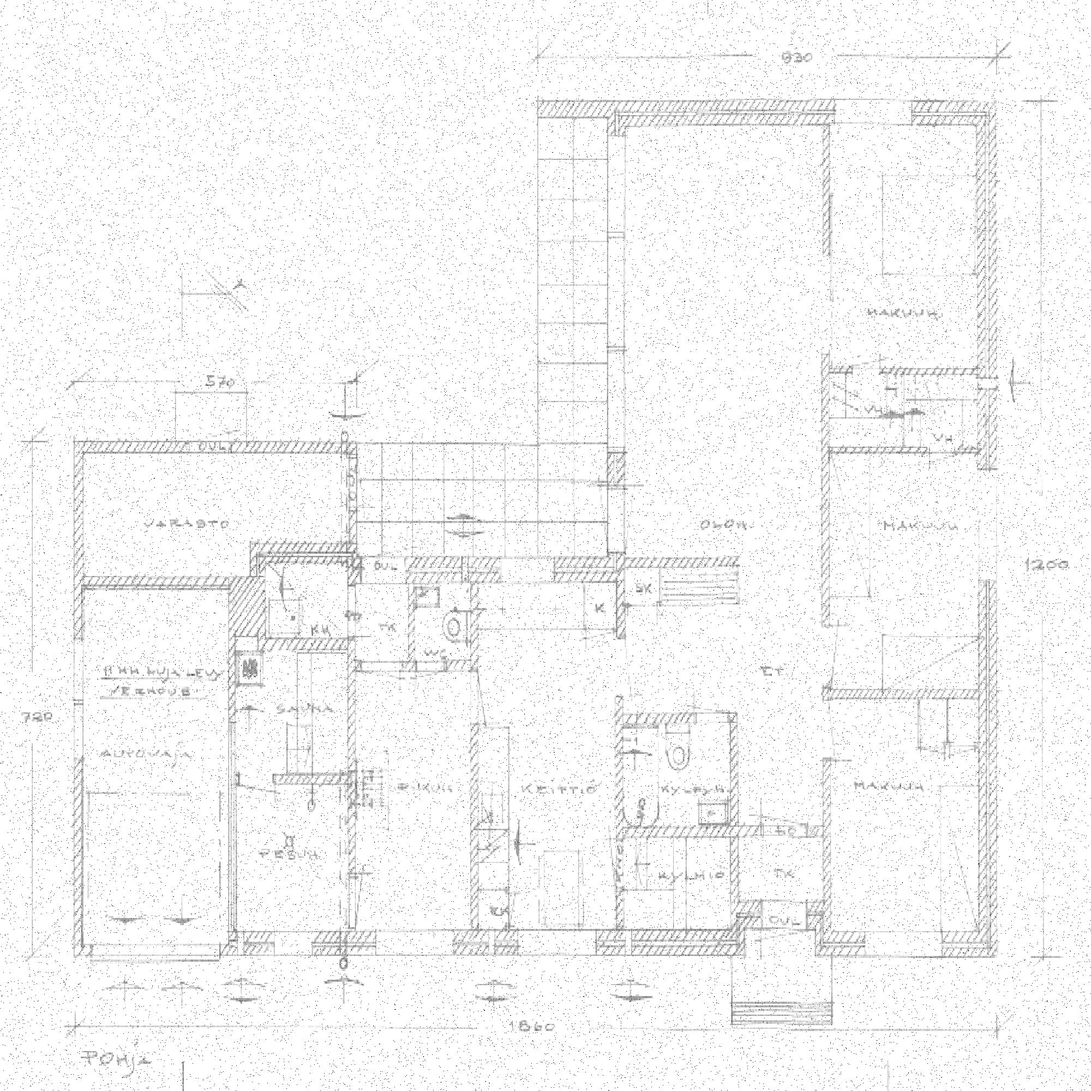wall: (978, 101, 996, 956), (229, 930, 745, 956), (608, 101, 996, 127), (608, 101, 626, 582), (348, 557, 626, 582), (823, 126, 831, 838), (74, 441, 83, 956), (816, 931, 996, 956), (74, 440, 356, 452), (617, 582, 626, 930), (470, 582, 478, 930), (348, 582, 356, 930), (229, 577, 236, 956), (730, 903, 832, 928), (250, 543, 356, 566), (74, 944, 228, 956), (83, 577, 236, 588), (228, 585, 258, 636), (832, 689, 978, 699), (617, 787, 738, 798), (730, 825, 832, 838), (356, 660, 470, 671), (626, 711, 738, 722), (348, 440, 356, 582), (236, 774, 348, 784), (539, 101, 608, 117), (823, 368, 978, 375), (258, 638, 348, 650), (832, 447, 978, 454), (730, 711, 738, 838), (816, 903, 832, 956), (250, 441, 258, 543), (730, 903, 745, 956), (250, 543, 266, 588), (823, 825, 831, 903), (730, 825, 738, 903), (258, 577, 266, 650), (409, 582, 416, 661), (228, 577, 266, 588)
